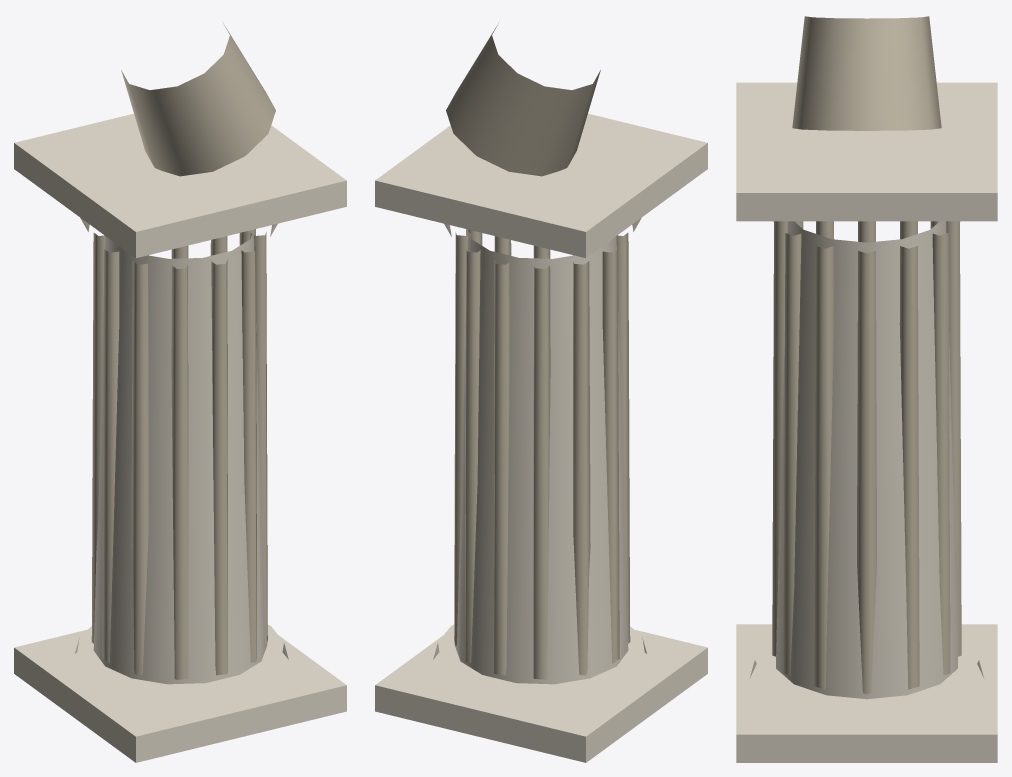
The model's file is roman_pillar.glb.
3 renders of one model, left to right at view 1: azimuth 30°, elevation 25°; view 2: azimuth 150°, elevation 25°; view 3: azimuth 270°, elevation 25°, orthographic. The views are drawn at different scales.
Parts seen in each view (by area): view 1: roman_pillar; view 2: roman_pillar; view 3: roman_pillar.
Part boxes in pixels (x1=…): roman_pillar: x1=14, y1=23, x2=346, y2=762; roman_pillar: x1=375, y1=23, x2=707, y2=762; roman_pillar: x1=736, y1=16, x2=997, y2=762.
Bounding box in the file's own units: 0.42 × 1.26 × 0.42.
